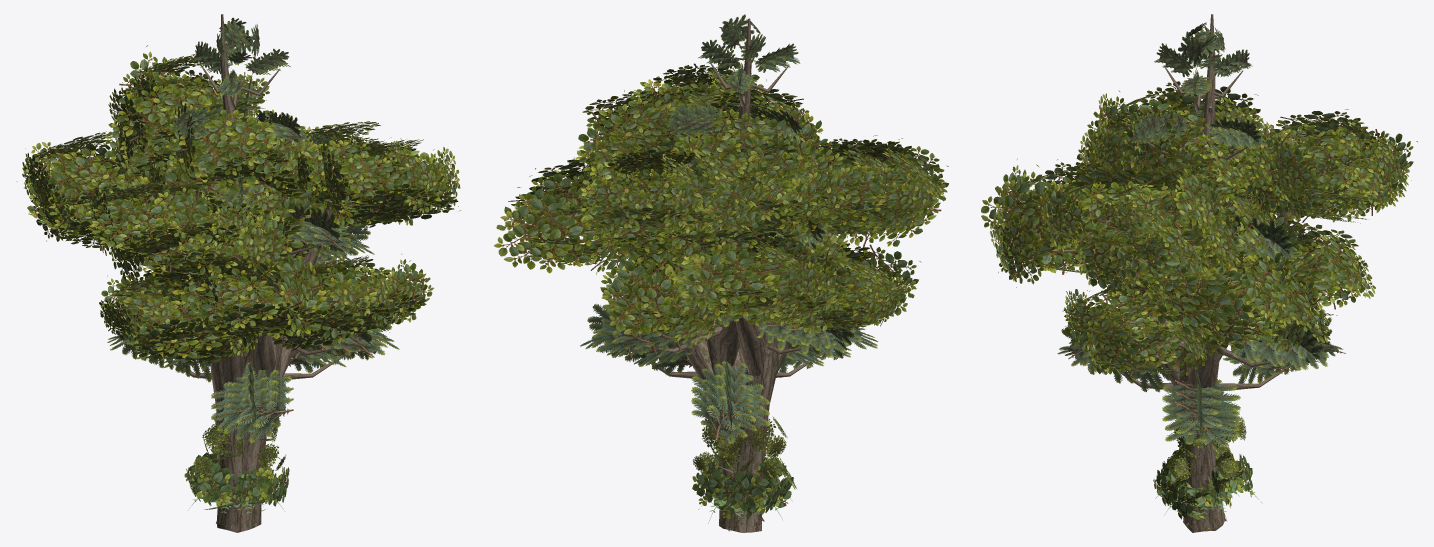
File: flora-standard-r10.glb
3 renders of one model, left to right at view 1: azimuth 30°, elevation 25°; view 2: azimuth 150°, elevation 25°; view 3: azimuth 270°, elevation 25°, orthographic.
Parts seen in each view (by area): view 1: alderTall_volumetric_leaf_clusters, alder_volumetric_leaf_clusters, pine_volumetric_leaf_clusters, hazelShrub_botanical_foliage, alderTall_rooted_branch_skeleton, pine_rooted_branch_skeleton, alder_rooted_branch_skeleton, alderSapling_botanical_foliage; view 2: alderTall_volumetric_leaf_clusters, alder_volumetric_leaf_clusters, pine_volumetric_leaf_clusters, alderTall_rooted_branch_skeleton, hazelShrub_botanical_foliage, alderSapling_botanical_foliage, pine_rooted_branch_skeleton, alder_rooted_branch_skeleton; view 3: alderTall_volumetric_leaf_clusters, alder_volumetric_leaf_clusters, pine_volumetric_leaf_clusters, hazelShrub_botanical_foliage, alder_rooted_branch_skeleton, pine_rooted_branch_skeleton, alderSapling_botanical_foliage.
Boxes of the visible parts, <box> form: alderTall_volumetric_leaf_clusters: <box>16,45,448,359</box>; alder_volumetric_leaf_clusters: <box>27,82,460,366</box>; pine_volumetric_leaf_clusters: <box>107,17,399,443</box>; hazelShrub_botanical_foliage: <box>184,448,289,511</box>; alderTall_rooted_branch_skeleton: <box>100,94,407,532</box>; pine_rooted_branch_skeleton: <box>163,14,346,530</box>; alder_rooted_branch_skeleton: <box>179,213,344,530</box>; alderSapling_botanical_foliage: <box>194,413,285,479</box>; alderTall_volumetric_leaf_clusters: <box>522,62,948,336</box>; alder_volumetric_leaf_clusters: <box>494,86,941,345</box>; pine_volumetric_leaf_clusters: <box>580,14,878,445</box>; alderTall_rooted_branch_skeleton: <box>605,105,900,532</box>; hazelShrub_botanical_foliage: <box>692,454,796,518</box>; alderSapling_botanical_foliage: <box>693,416,787,479</box>; pine_rooted_branch_skeleton: <box>640,18,825,530</box>; alder_rooted_branch_skeleton: <box>582,125,802,531</box>; alderTall_volumetric_leaf_clusters: <box>981,81,1417,349</box>; alder_volumetric_leaf_clusters: <box>990,110,1403,378</box>; pine_volumetric_leaf_clusters: <box>1057,22,1345,453</box>; hazelShrub_botanical_foliage: <box>1153,446,1252,519</box>; alder_rooted_branch_skeleton: <box>1062,192,1333,532</box>; pine_rooted_branch_skeleton: <box>1120,14,1292,532</box>; alderSapling_botanical_foliage: <box>1166,416,1246,480</box>.
Bounding box in the file's own units: 7.11 × 9.22 × 7.28.
Materials: 4 (3 with a texture image).
